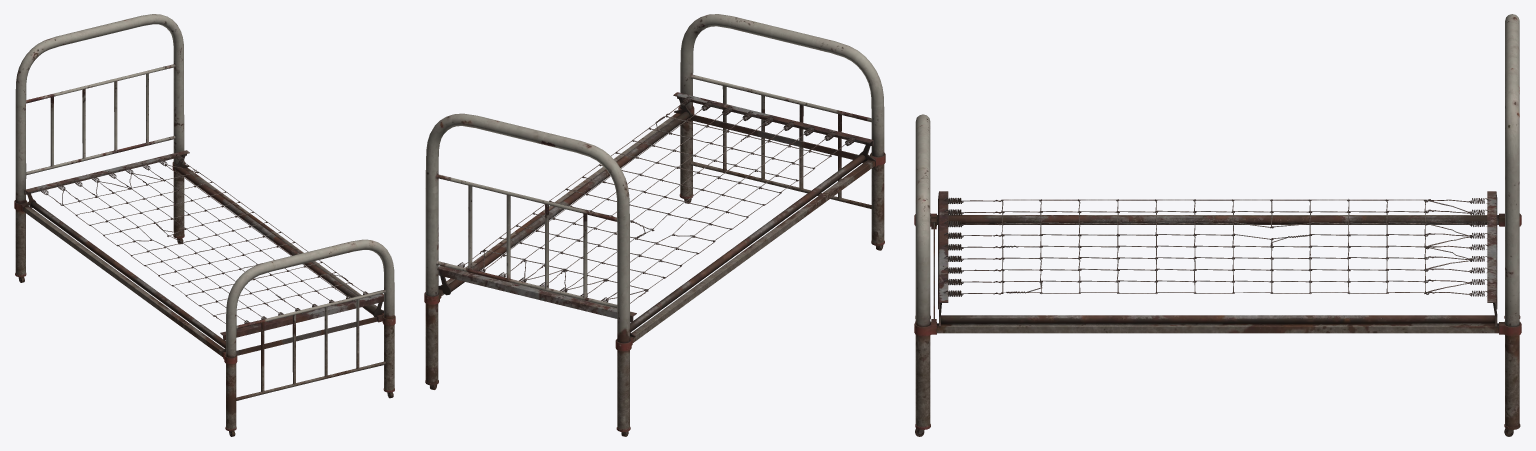
The model's file is old_bed_frame.glb.
3 renders of one model, left to right at view 1: azimuth 30°, elevation 25°; view 2: azimuth 150°, elevation 25°; view 3: azimuth 270°, elevation 25°, orthographic. The views are drawn at different scales.
Parts seen in each view (by area): view 1: old_bed_frame; view 2: old_bed_frame; view 3: old_bed_frame.
Part boxes in pixels (left/top/right/bottom): old_bed_frame: left=14, top=14, right=395, bottom=436; old_bed_frame: left=424, top=14, right=885, bottom=436; old_bed_frame: left=914, top=14, right=1521, bottom=436.
Bounding box in the file's own units: 0.9047 × 1.2 × 2.
1 material, 1 textured.
